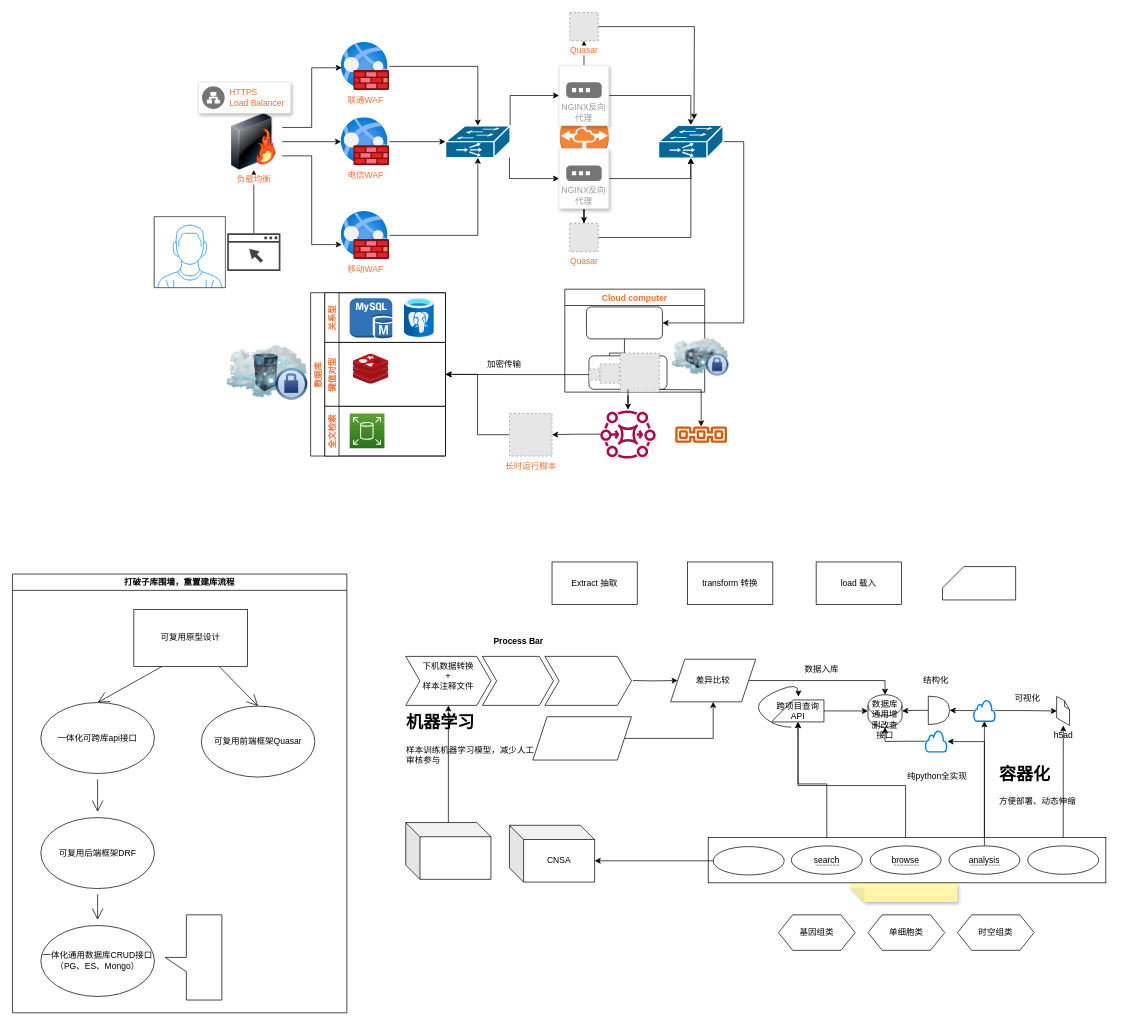
This 1143x1025 diagram has some shape labels left out. Grey dashed boxes stand in for pictures. Each missing label, with the centre of its shape:
"Backend SLB (VIP)" belongs at point 690,141.
"Blockchain" belongs at point 700,434.
"Chado模式" belongs at point 979,583.
"cirro" belongs at point 984,710.
"CNGB—DM" belongs at point 448,850.
"Dash / Streamlit" belongs at point 935,741.
"Django" belongs at point 939,710.
"download" belongs at point 1063,859.
"Nginx SLB (VIP)" belongs at point 477,141.
"rabbitMQ 消息队列" belongs at point 627,434.
"resource" belongs at point 748,860.
"uwsgi多进程 提升性能" belongs at point 624,322.
"一站式分析展示平台" belongs at point 904,893.
"下载参考基因组索引" belongs at point 582,738.
"分解 + dump" belongs at point 588,680.
"审编 + 清洗" belongs at point 517,680.
"用户浏览器" belongs at point 253,252.
"通用数据库安全方案" belongs at point 193,957.
